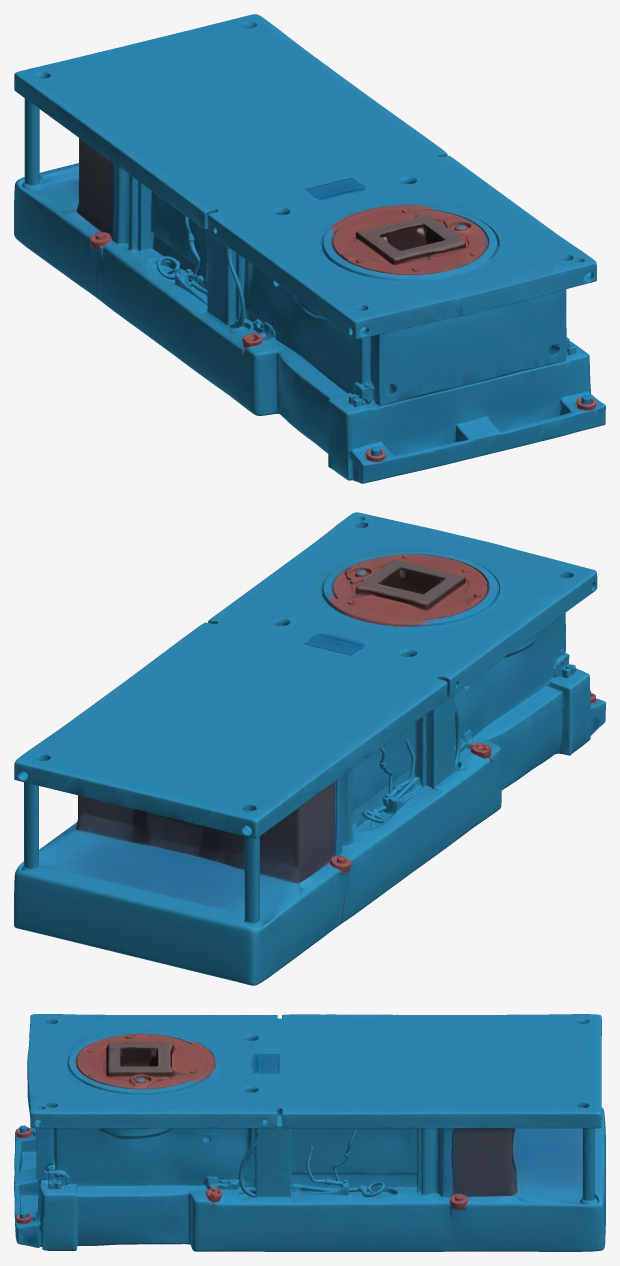
Rendered from rotary.glb.
The picture shows the model from 3 angles, top to bottom: view 1: azimuth 30°, elevation 25°; view 2: azimuth 150°, elevation 25°; view 3: azimuth 270°, elevation 25°; orthographic projection. The views are drawn at different scales.
Visible parts, largest first — view 1: model; view 2: model; view 3: model.
Boxes of the visible parts, box(x1,y1,x2,y2) form: model: box(14, 14, 605, 483); model: box(14, 512, 605, 985); model: box(14, 1014, 605, 1251).
Size of the model in its own units: 0.8024 by 0.518 by 1.9.
1 material, 1 textured.
